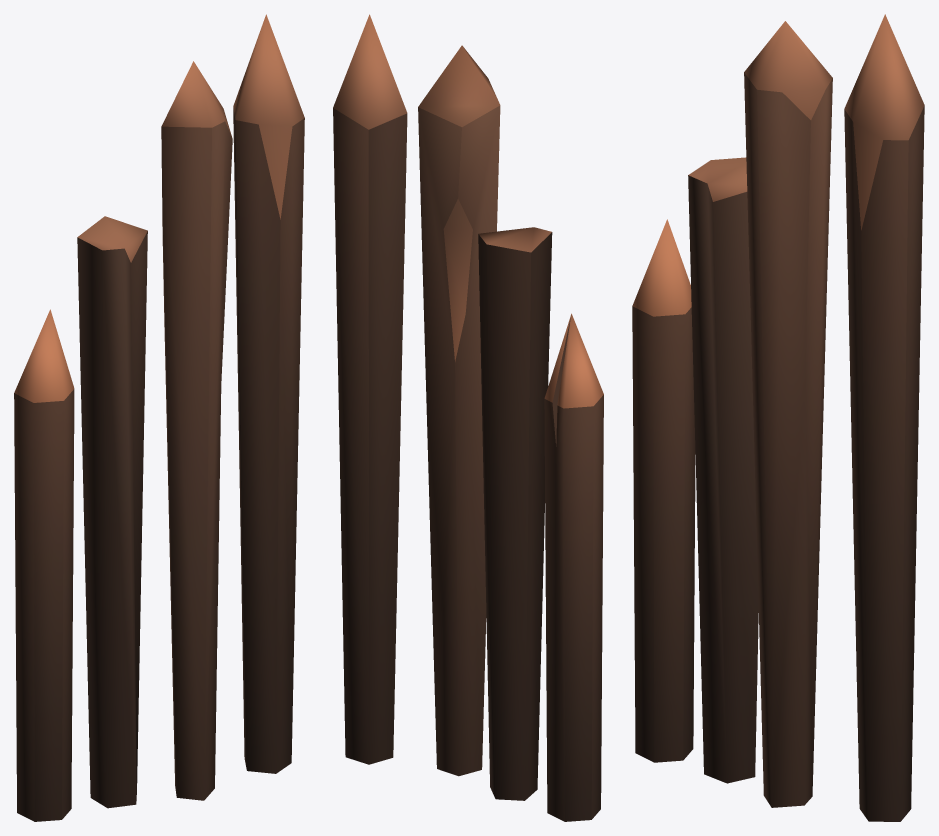
File: Palisade_1D.fbx
3 renders of one model, left to right at view 1: azimuth 30°, elevation 25°; view 2: azimuth 150°, elevation 25°; view 3: azimuth 330°, elevation 25°, orthographic. The views are drawn at different scales.
Parts seen in each view (by area): view 1: Palisade_1D; view 2: Palisade_1D; view 3: Palisade_1D.
Part boxes in pixels (<box>): Palisade_1D: <box>14,14,304,821</box>; Palisade_1D: <box>333,14,603,821</box>; Palisade_1D: <box>632,14,924,821</box>.
Bounding box in the file's own units: 98.62 × 262 × 35.13.
